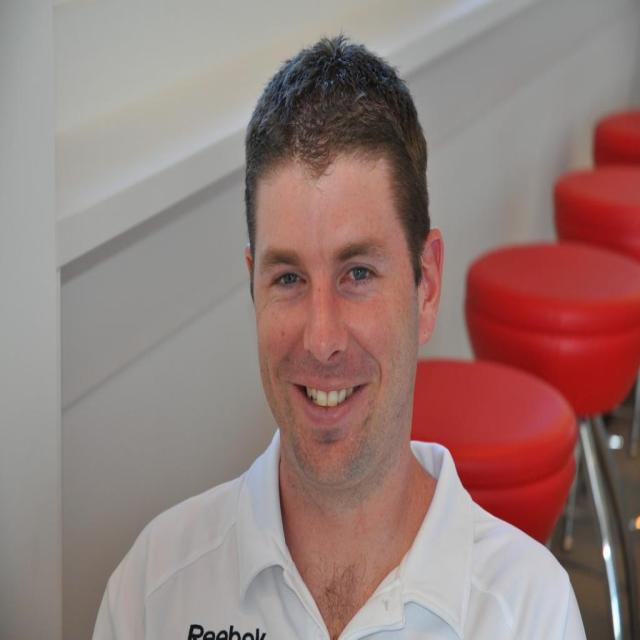Face: (227, 123, 431, 491)
